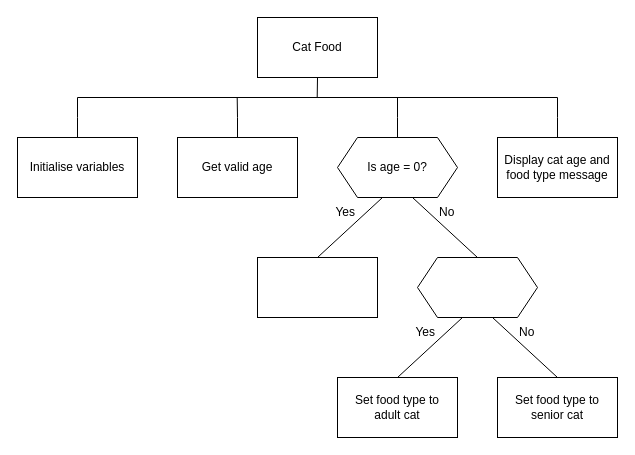
The diagram is 635 pixels wide and 455 high, and some of its shapes have lost their labels. The shapes that lost their labels are listed below. From the top down, each one's box as (x1, y1, x2, y2) in pixels, then its label:
(256, 256, 378, 318): Set food type to kitten
(416, 256, 538, 318): Is age < 7?
